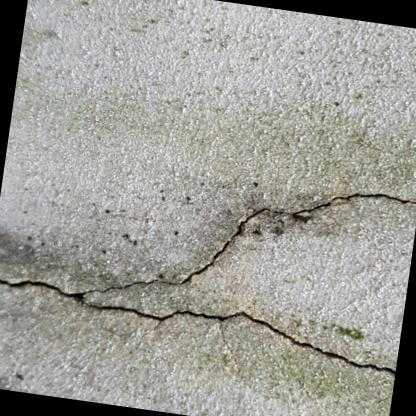crack: (0, 207, 395, 376), (330, 192, 416, 202), (292, 201, 330, 213)
